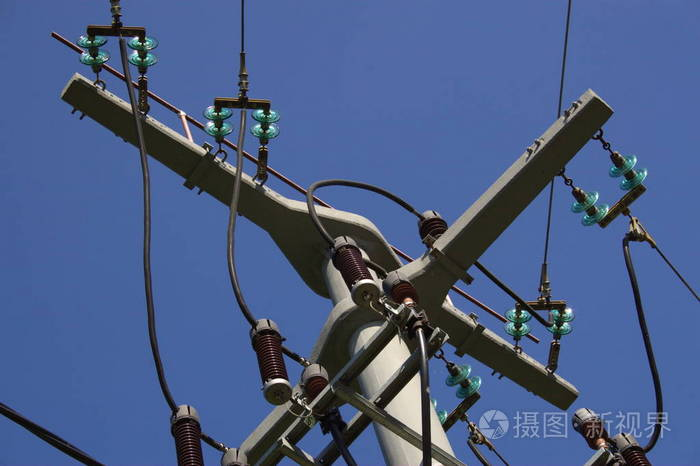insulator: (571, 190, 612, 228), (607, 153, 648, 188), (445, 364, 483, 400), (250, 108, 286, 144), (126, 34, 159, 69), (203, 103, 236, 138), (501, 308, 531, 339), (79, 35, 108, 67), (546, 307, 574, 336)
